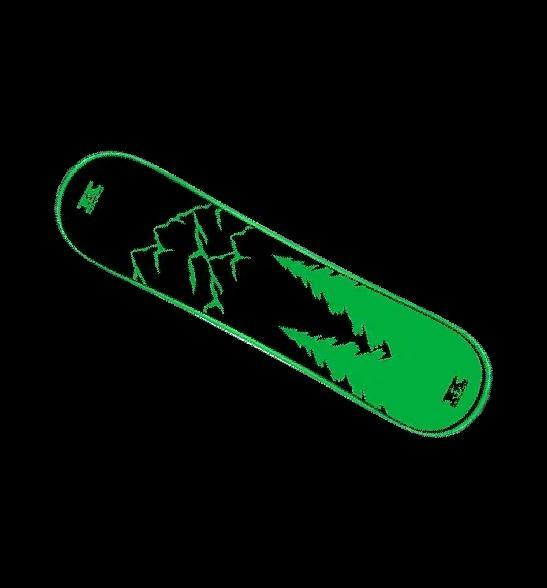Snowboard: (39, 127, 495, 448)
